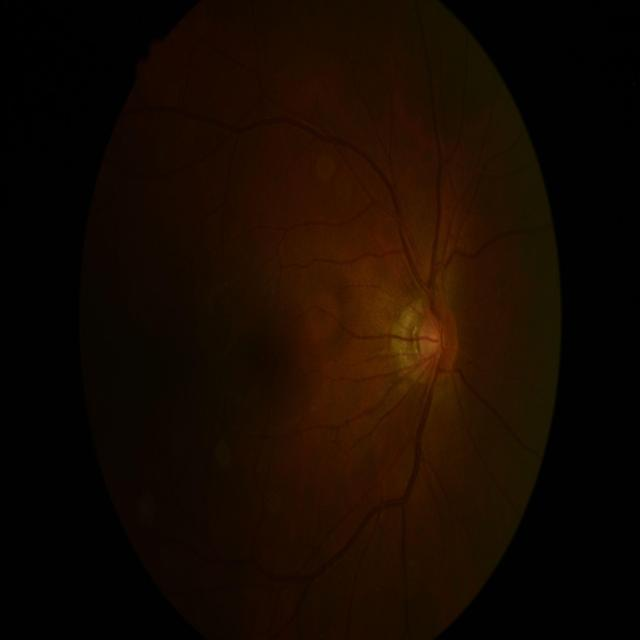cup: (426, 322, 439, 360)
disk: (417, 310, 460, 374)
